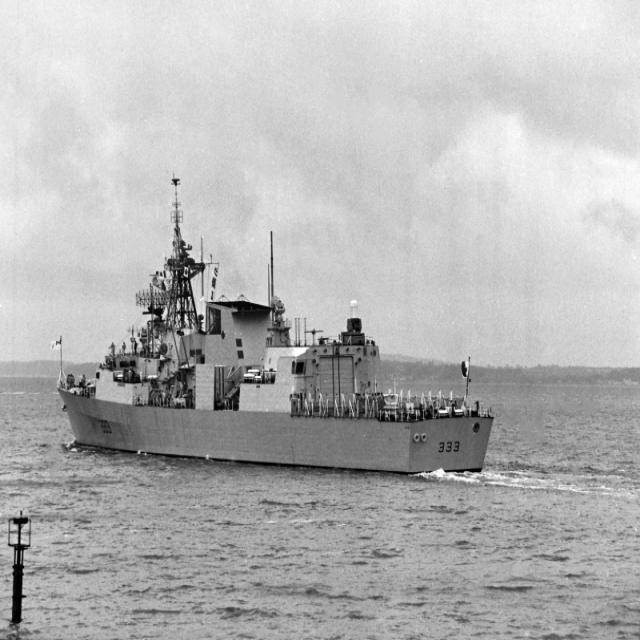Fragata: (56, 164, 497, 485)
